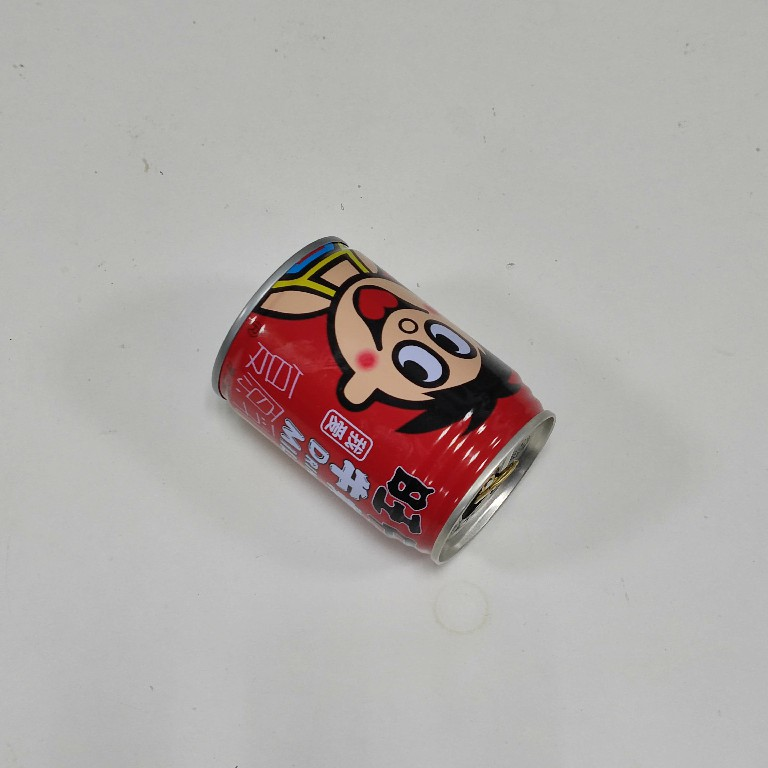can: (203, 232, 556, 570)
